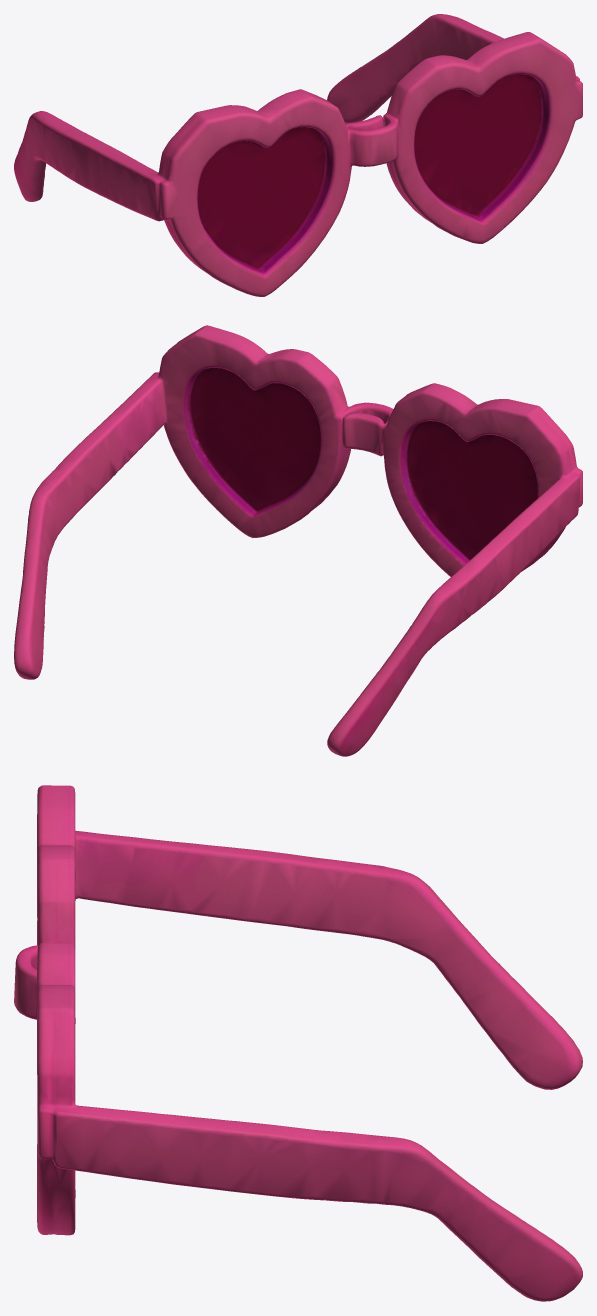
Rendered from avatar_acc_sunglasses.glb.
The picture shows the model from 3 angles, top to bottom: view 1: azimuth 30°, elevation 25°; view 2: azimuth 150°, elevation 25°; view 3: azimuth 270°, elevation 25°; orthographic projection. The views are drawn at different scales.
Parts seen in each view (by area): view 1: world; view 2: world; view 3: world.
Boxes of the visible parts, box(x1,y1,x2,y2) form: world: box(14, 14, 582, 296); world: box(14, 325, 582, 756); world: box(14, 785, 582, 1301).
Bounding box in the file's own units: 1.99 × 0.9635 × 1.68.
Materials: 1 (1 with a texture image).
